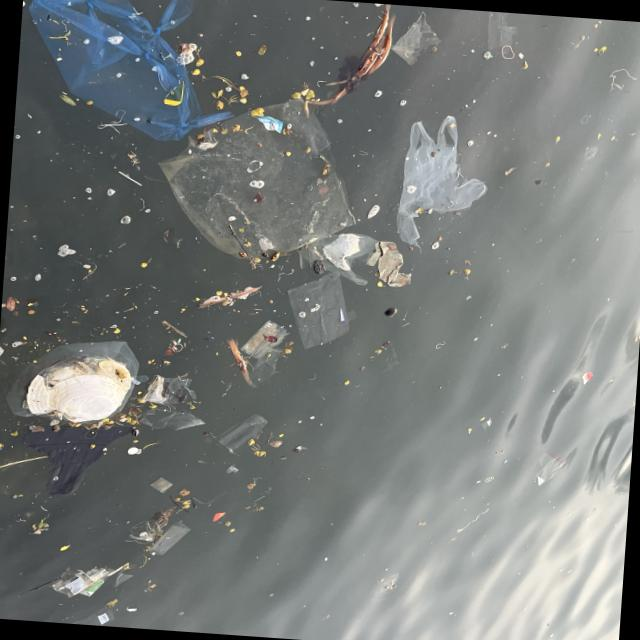foam: (26, 370, 127, 424)
plastic bag: (157, 93, 356, 260), (30, 3, 231, 140), (396, 116, 489, 245), (300, 227, 387, 288)
